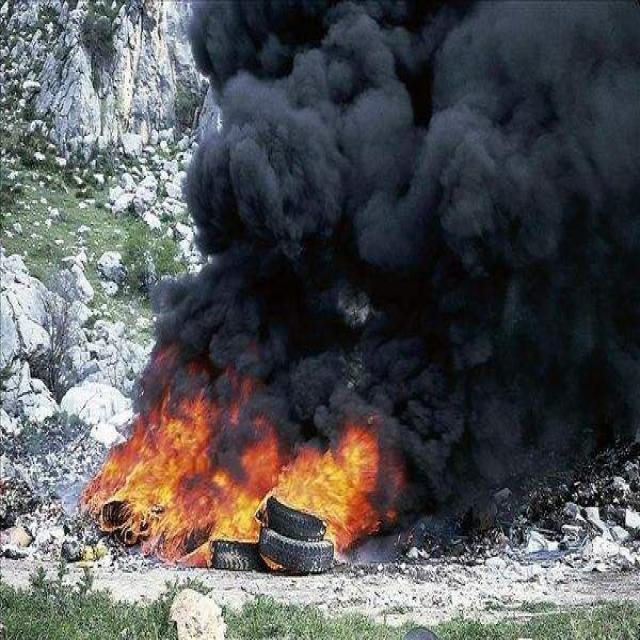fire: (82, 399, 211, 567), (277, 422, 378, 552), (211, 432, 276, 544)
